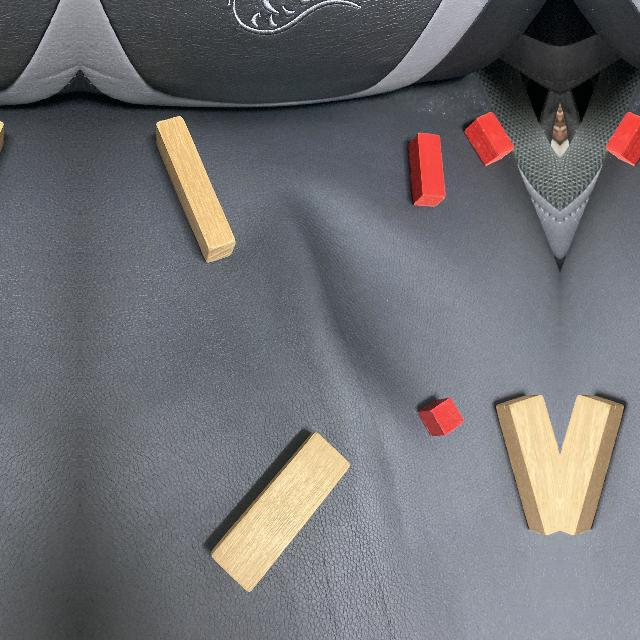jenga: (210, 430, 351, 593), (154, 115, 236, 264), (493, 396, 560, 537), (560, 396, 627, 537)
red block: (408, 133, 446, 208), (463, 112, 514, 167), (606, 112, 640, 167)
red cube: (418, 398, 464, 436)
